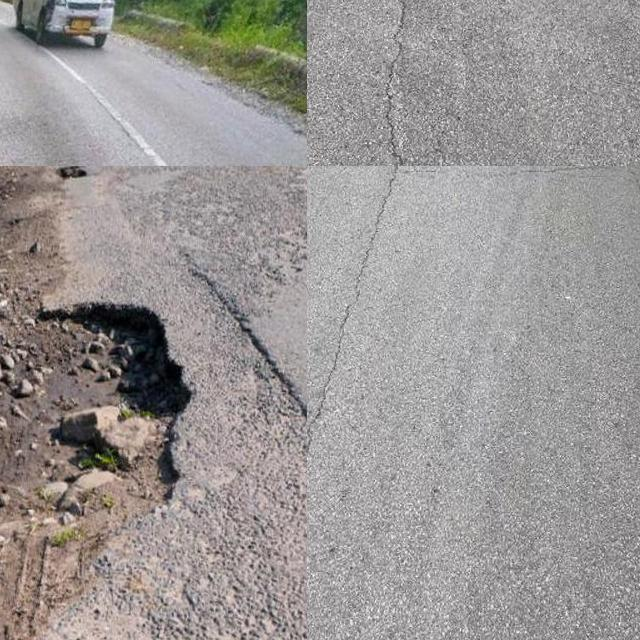Melintang: (363, 166, 640, 183)
Memanjang: (307, 166, 415, 519), (372, 0, 426, 166)
Pinggir: (0, 283, 215, 640)
